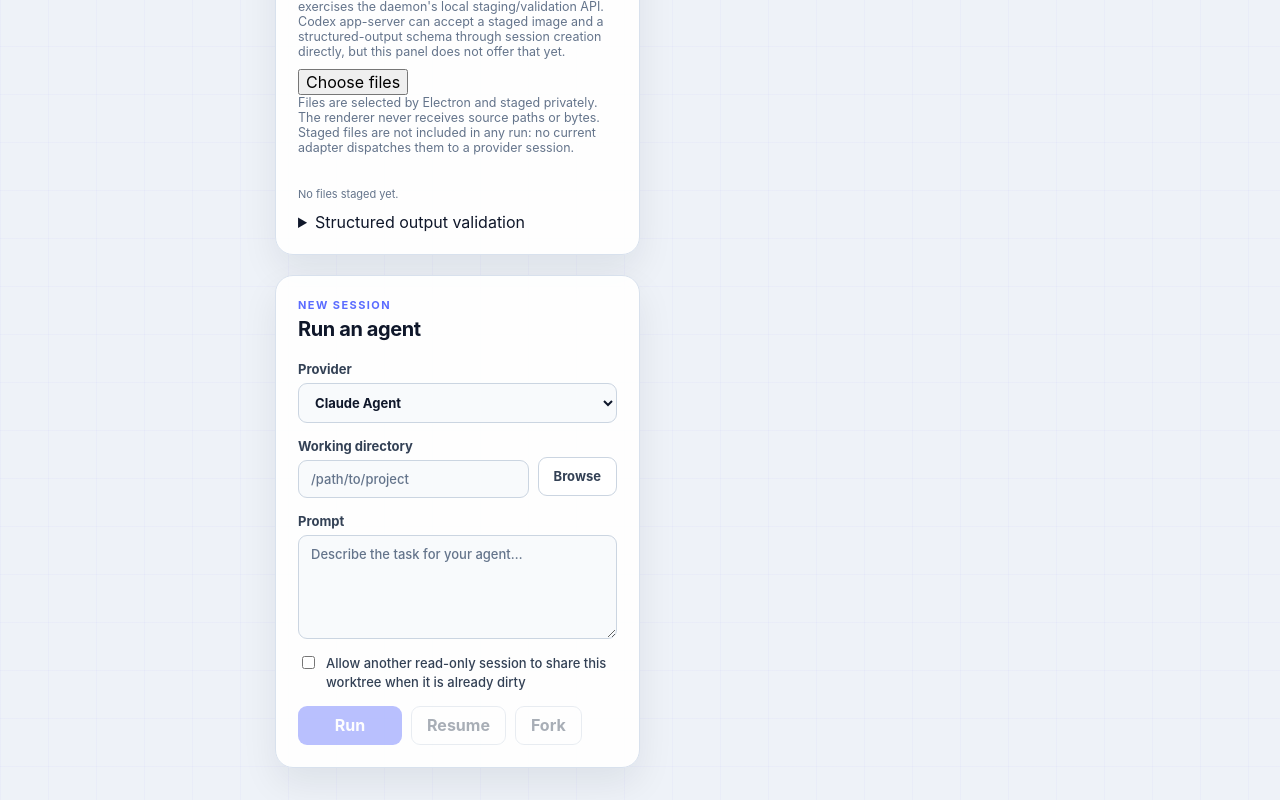
Scenario: App security flow › enables Resume/Fork for a terminal session whose provider does advertise them as supported
(page scrolled)
In the text box with placeholder "Describe the task for your agent…": x=458, y=587 [298, 535, 617, 639], type "continue please"
(page scrolled)
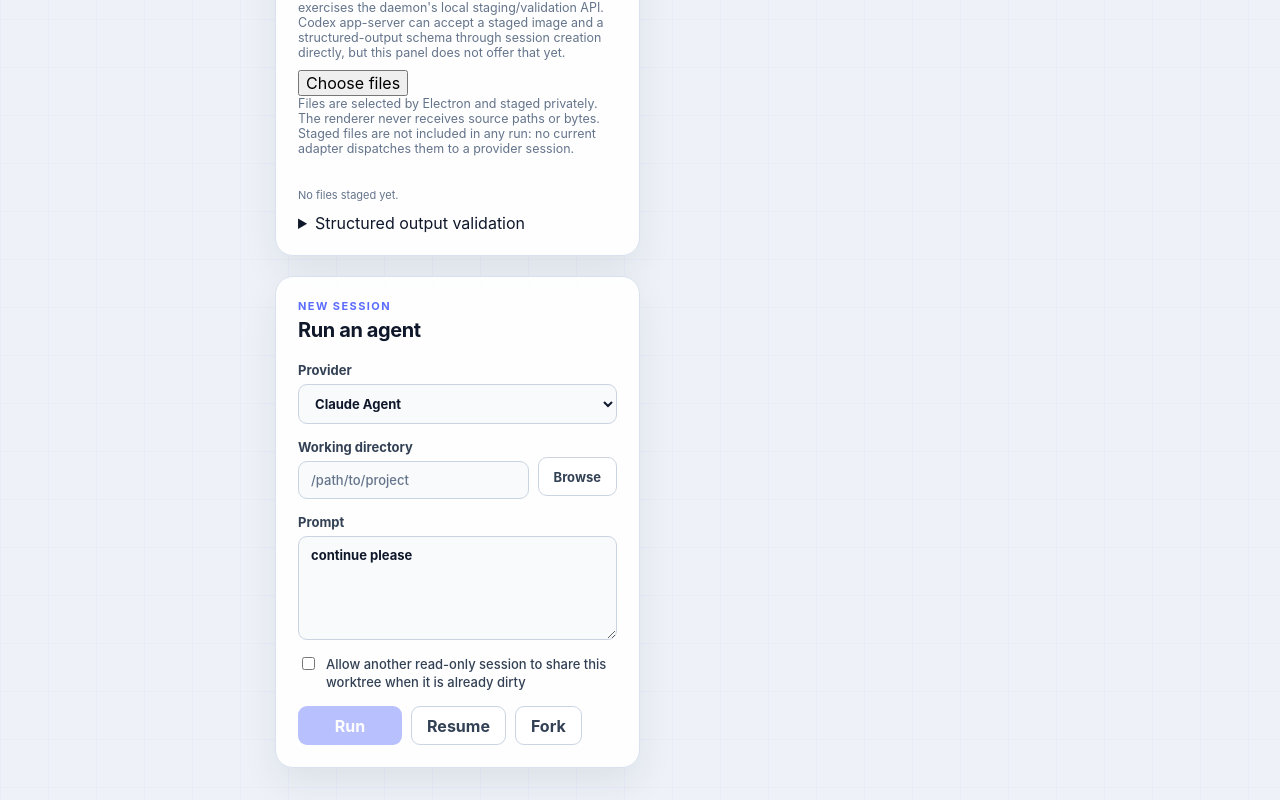
Expected: the button "Resume" is enabled, [411, 706, 506, 745]
Expected: the button "Fork" is enabled, [515, 706, 582, 745]
